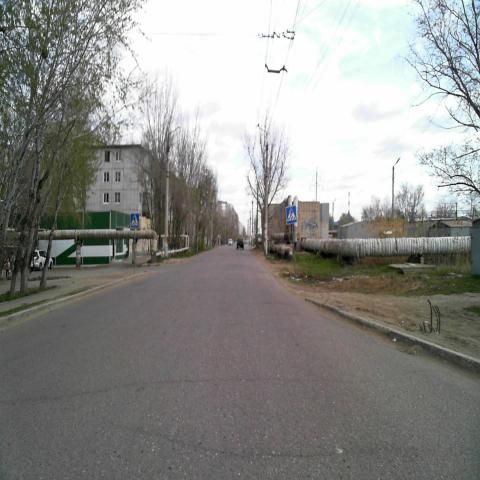5_19_1: (286, 205, 295, 225), (129, 213, 139, 229)
